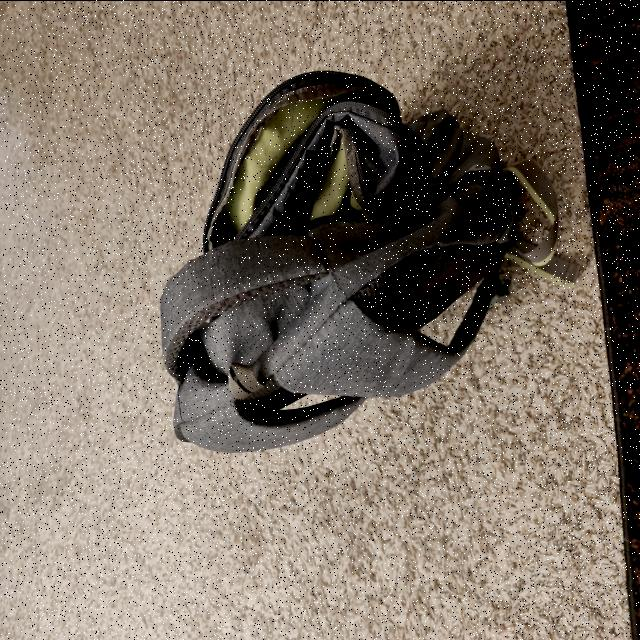bag: (176, 72, 494, 436)
